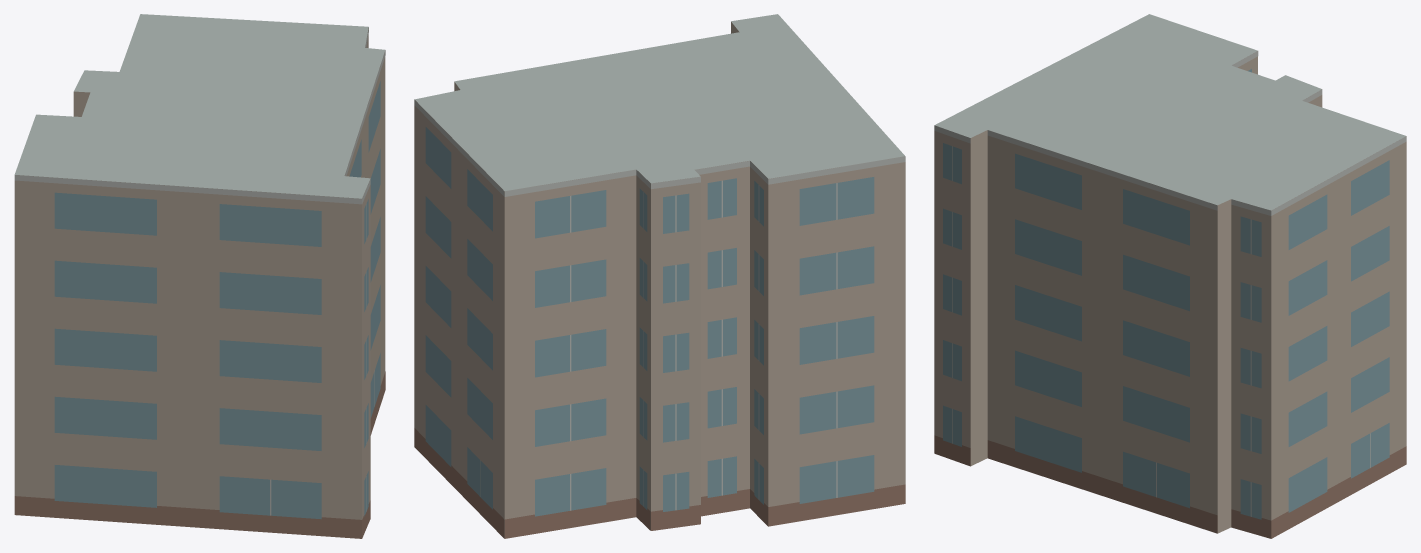
File: survey-upis-32516166.glb
3 renders of one model, left to right at view 1: azimuth 30°, elevation 25°; view 2: azimuth 150°, elevation 25°; view 3: azimuth 270°, elevation 25°, orthographic. The views are drawn at different scales.
Visible parts, largest first — view 1: survey-upis-32516166.tmp; view 2: survey-upis-32516166.tmp; view 3: survey-upis-32516166.tmp.
Boxes of the visible parts, x1,y1,x2,y2 form: survey-upis-32516166.tmp: (14, 14, 385, 538); survey-upis-32516166.tmp: (414, 14, 905, 538); survey-upis-32516166.tmp: (934, 14, 1406, 538).
Size of the model in its own units: 18.75 by 14.6 by 19.04.
